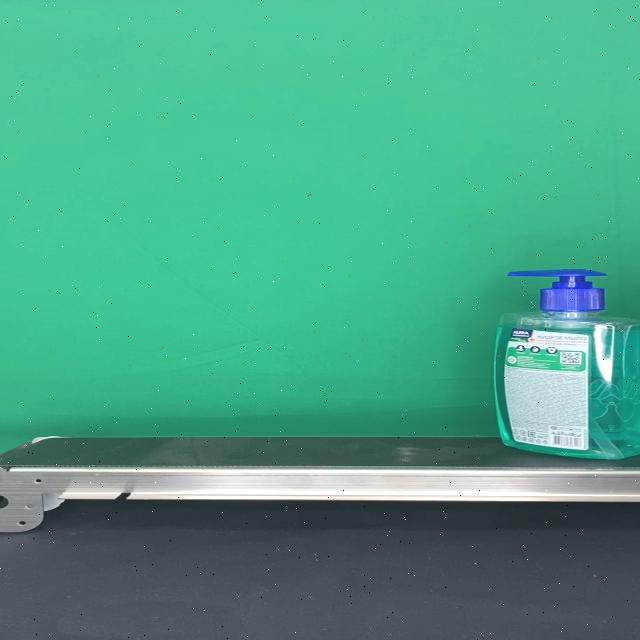Bottle: (493, 269, 640, 459)
Cap: (507, 269, 607, 311)
